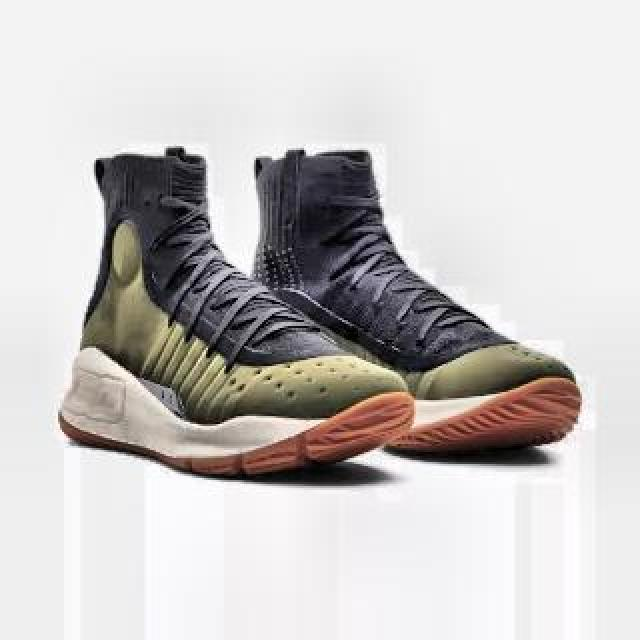shoe: (57, 145, 417, 473), (234, 148, 582, 458)
